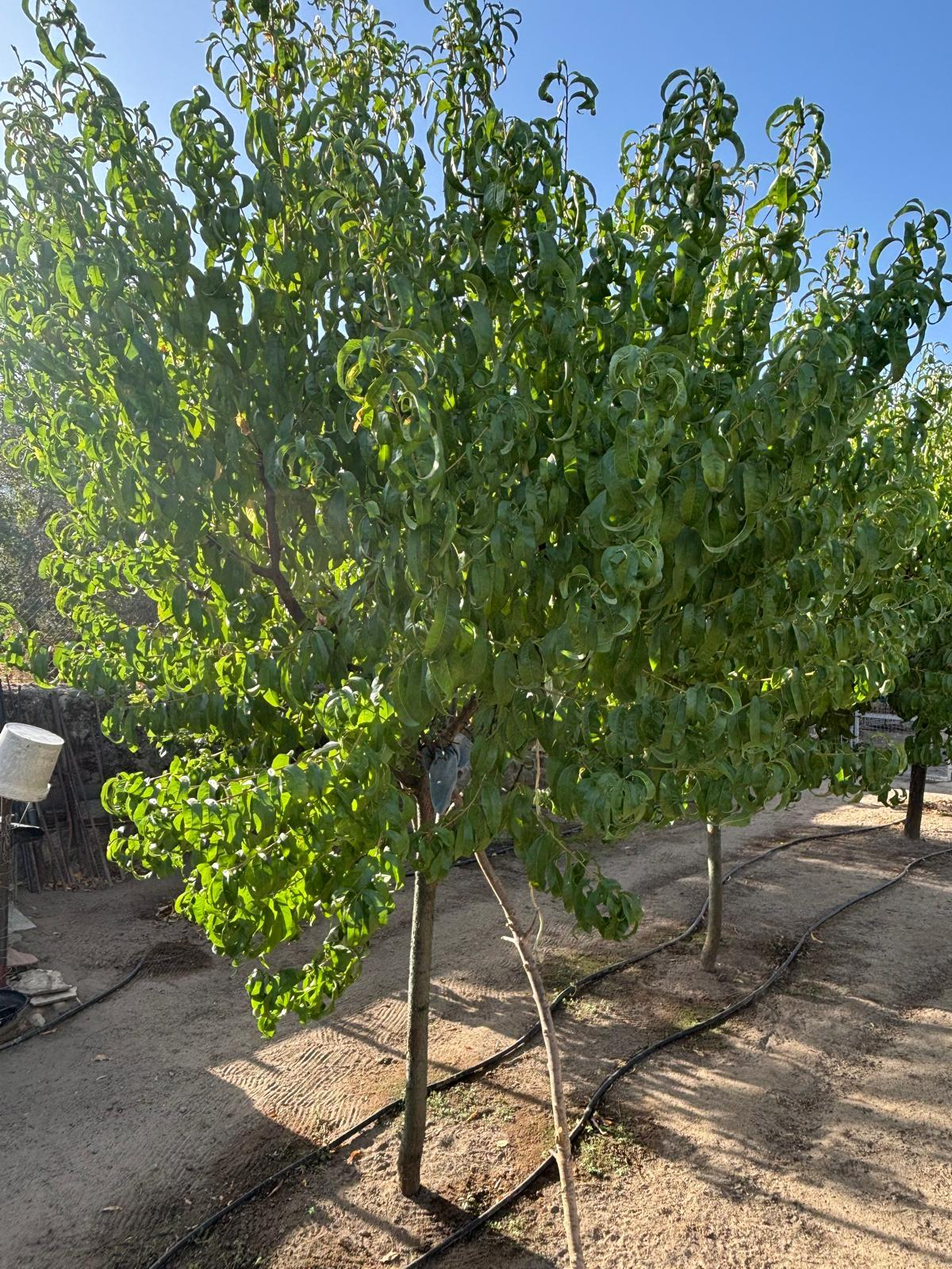melocotonero: (53, 141, 726, 1238)
